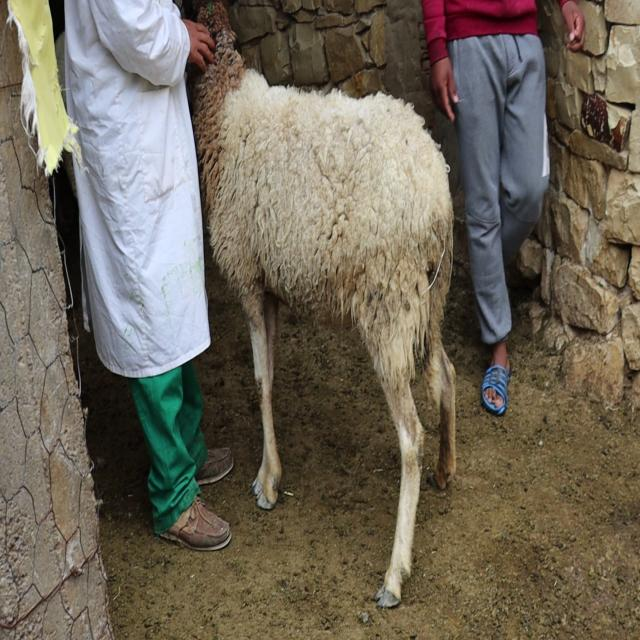Score_2: (189, 0, 455, 607)
